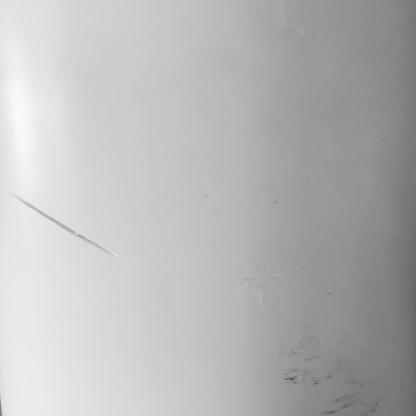sunshang: (5, 181, 118, 257)
